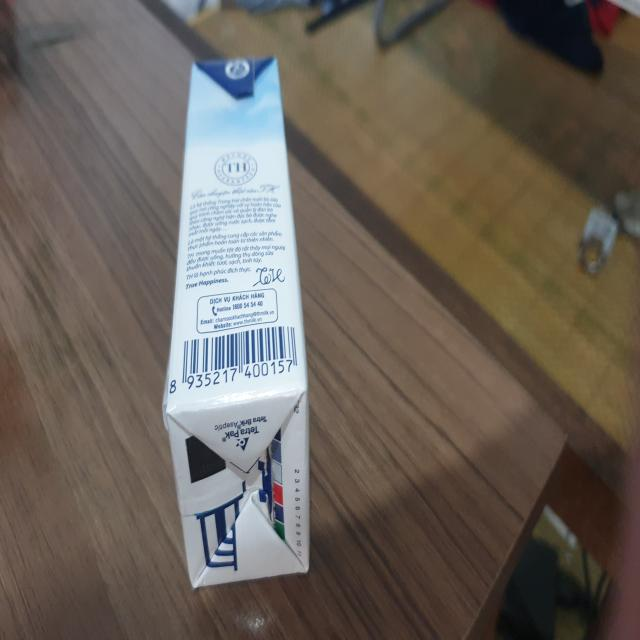TH: (162, 55, 317, 593)
